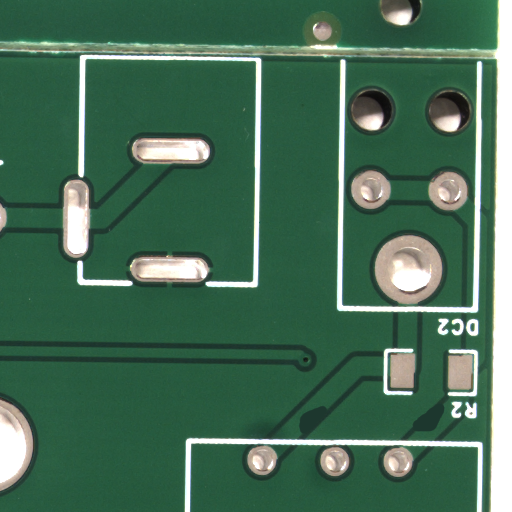Mouse_bite: (429, 417, 460, 447), (313, 420, 344, 448)
